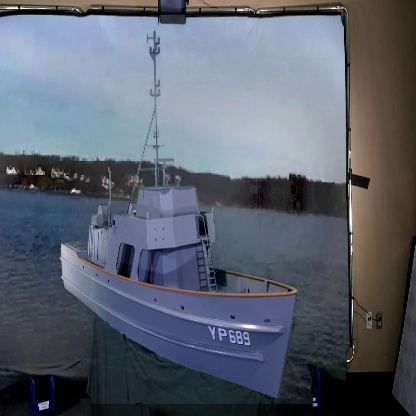YP689: (60, 25, 297, 397)
